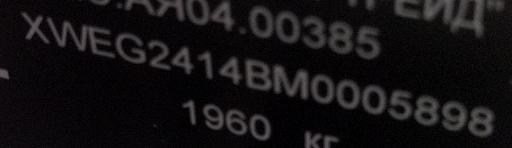letter: (271, 59, 311, 101), (45, 14, 89, 51), (114, 29, 148, 66), (86, 22, 116, 61), (464, 102, 496, 137), (20, 9, 50, 46), (242, 56, 272, 92), (146, 35, 174, 72), (307, 70, 337, 104), (388, 83, 414, 120), (414, 91, 440, 128), (216, 51, 244, 85), (168, 41, 196, 75), (438, 98, 468, 129), (360, 81, 388, 114), (334, 77, 362, 109), (194, 46, 216, 80)
